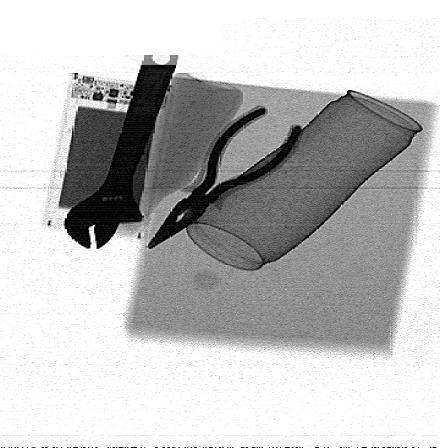Pliers: (144, 105, 303, 251)
Powerbank: (40, 71, 164, 240)
Wrench: (63, 53, 179, 250)
